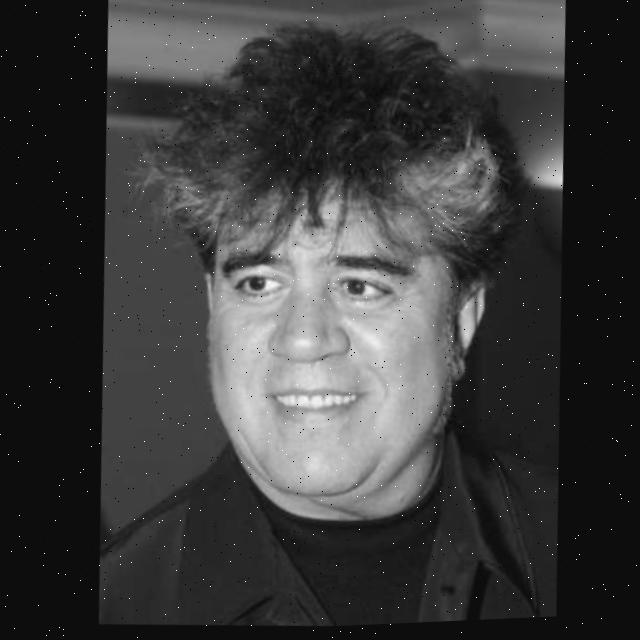face: (202, 154, 461, 518)
